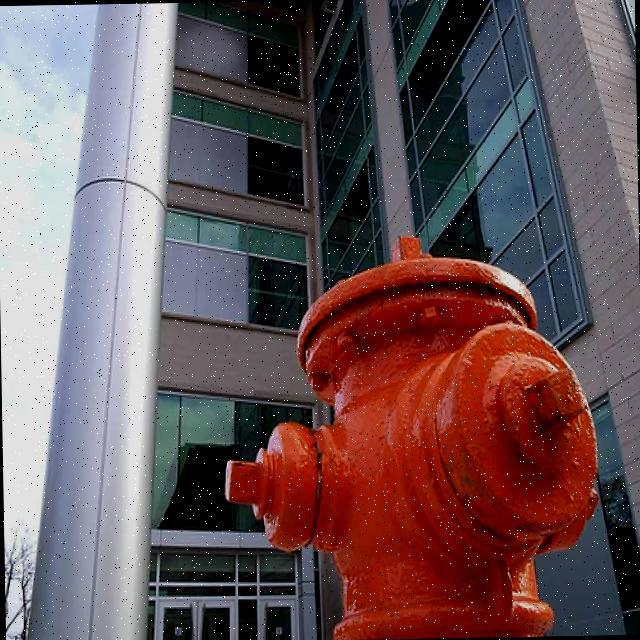fire_hydrant: (219, 229, 599, 640)
